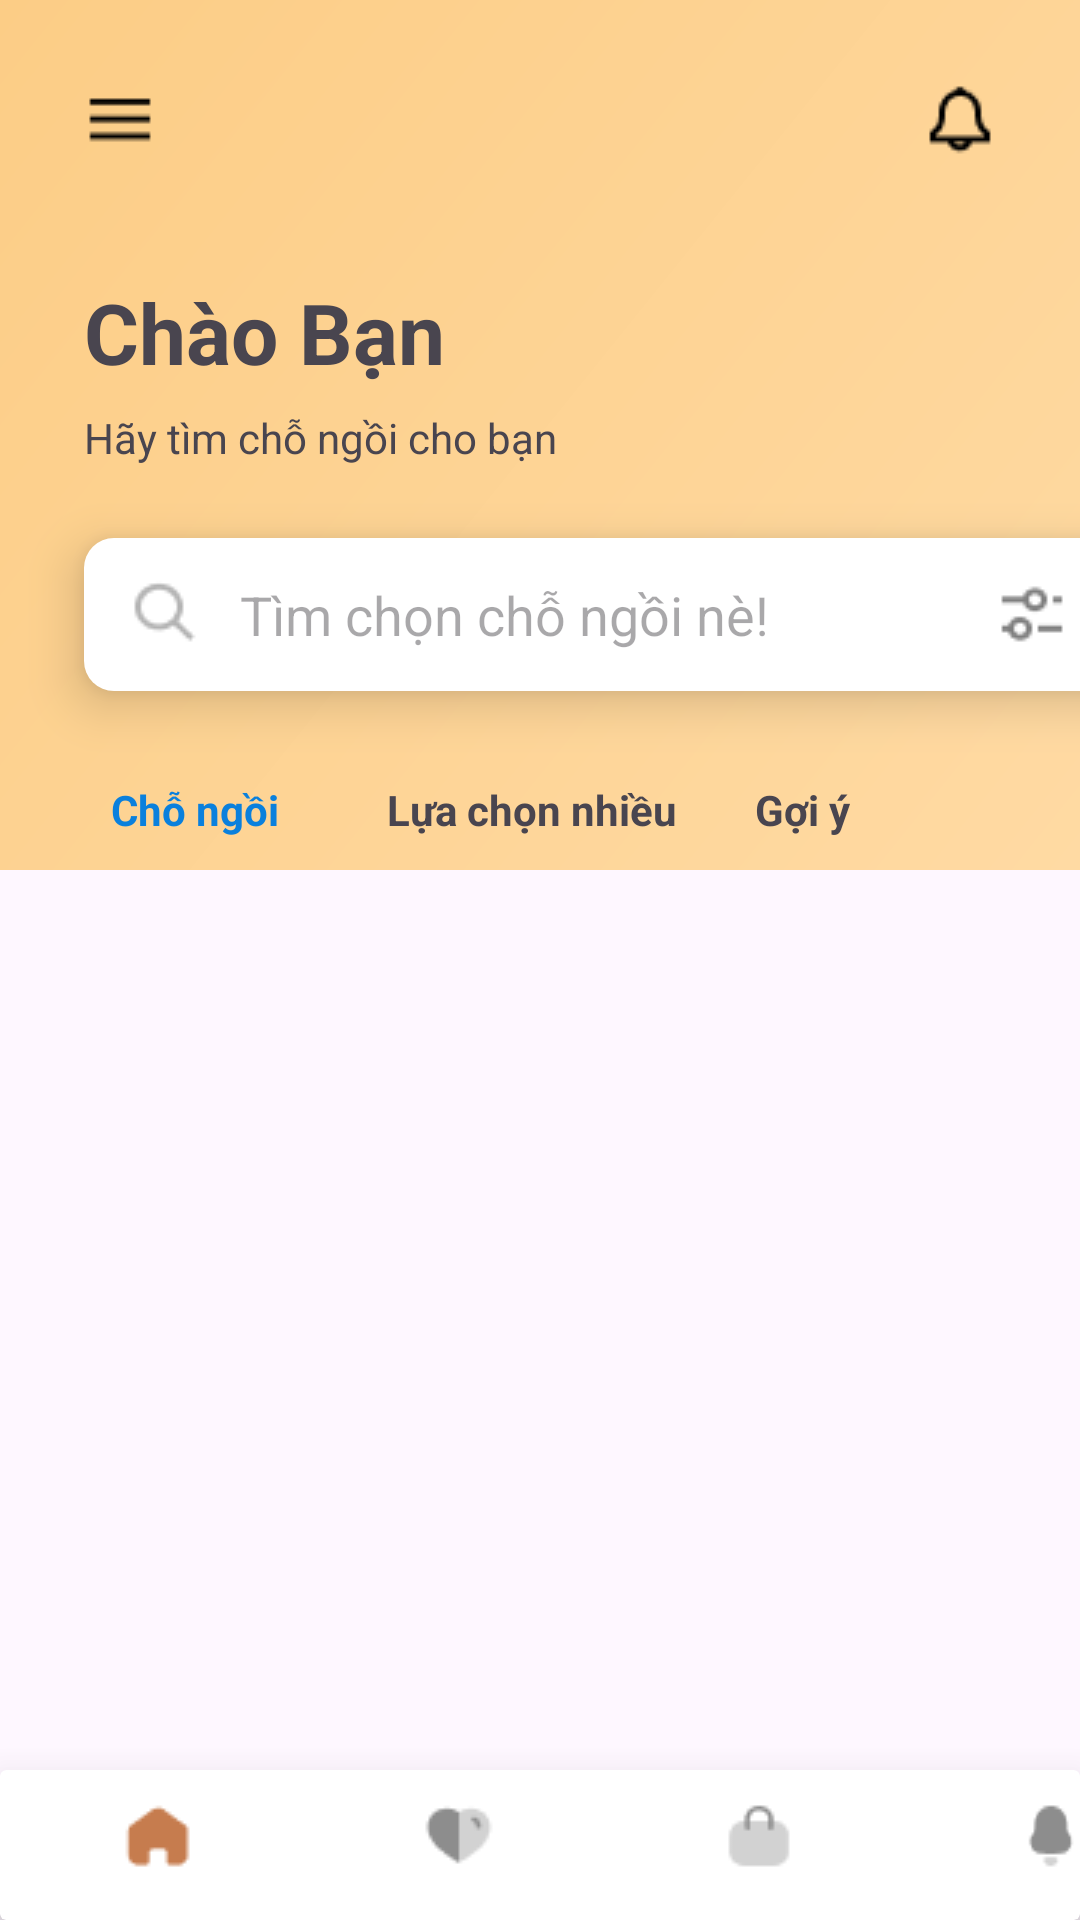

Locate icon controls on the screen. Image size 1080w x 1920h, boxes as (x1, y1, x2, y2).
bag: (729, 1805, 789, 1866)
bell: (929, 86, 991, 153)
home: (126, 1806, 190, 1867)
